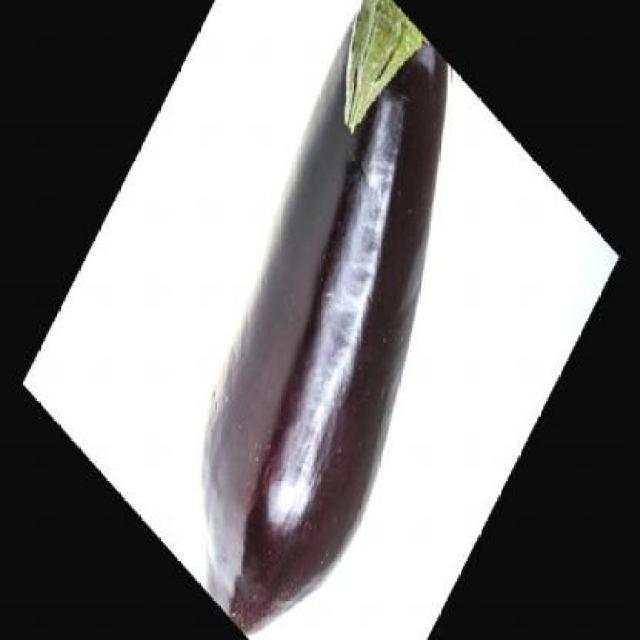eggplant: (114, 0, 540, 638)
